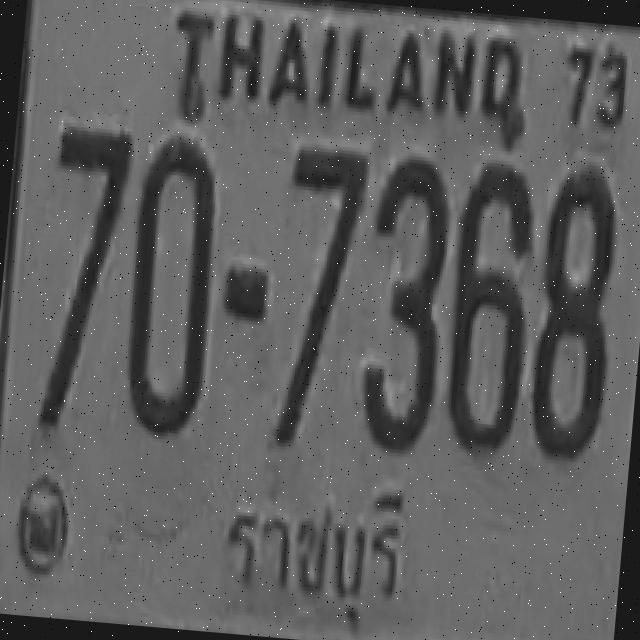0: (117, 132, 222, 438)
3: (354, 153, 453, 452)
6: (438, 160, 536, 456)
7: (269, 144, 367, 426), (38, 124, 132, 396), (276, 144, 367, 351), (43, 126, 132, 332), (278, 143, 367, 324), (45, 124, 132, 308)
8: (524, 161, 622, 460)
Ratchaburi: (197, 468, 417, 640)
